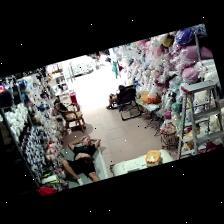person: (62, 137, 100, 185), (107, 94, 117, 109), (96, 51, 100, 60)
